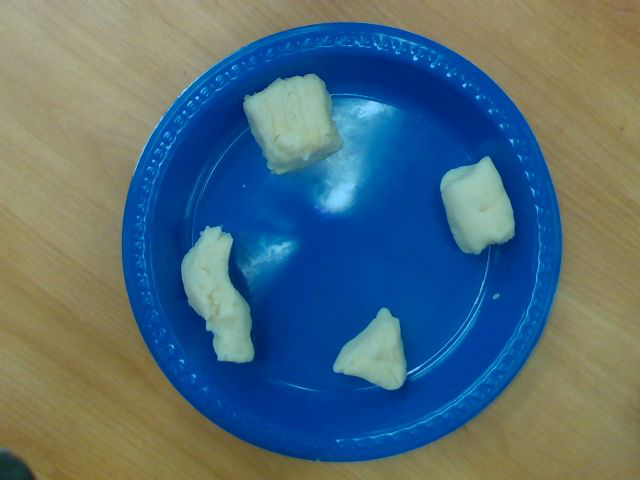mashed_potato: (179, 227, 254, 363), (244, 72, 342, 174), (439, 157, 514, 254), (334, 308, 407, 390)
